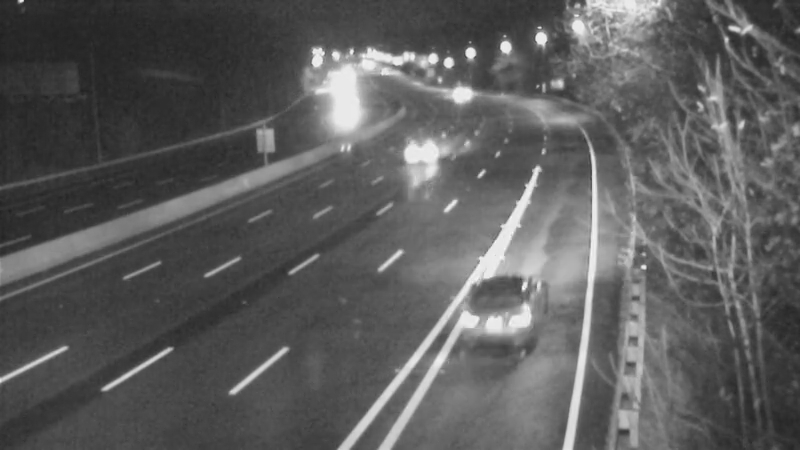vehicle: (448, 269, 558, 379), (434, 67, 484, 117), (401, 125, 451, 175), (316, 79, 366, 129)
